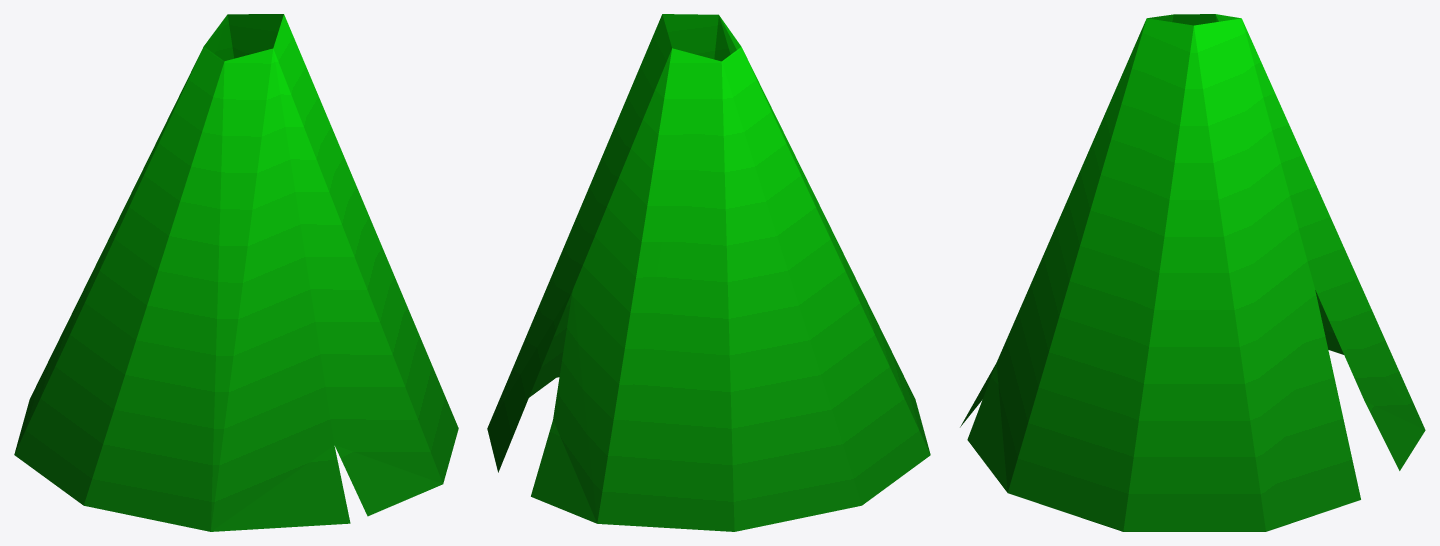
The model's file is Prefab_Foliage_Tree_Pine_Leaves_D.glb.
3 renders of one model, left to right at view 1: azimuth 30°, elevation 25°; view 2: azimuth 150°, elevation 25°; view 3: azimuth 270°, elevation 25°, orthographic. The views are drawn at different scales.
Parts seen in each view (by area): view 1: PineTree_B_Trunk.008; view 2: PineTree_B_Trunk.008; view 3: PineTree_B_Trunk.008.
Boxes of the visible parts, x1=… form: PineTree_B_Trunk.008: x1=14, y1=14, x2=458, y2=531; PineTree_B_Trunk.008: x1=487, y1=14, x2=930, y2=531; PineTree_B_Trunk.008: x1=960, y1=14, x2=1425, y2=531.
Bounding box in the file's own units: 4.21 × 4.54 × 4.4.
Materials: 1 (1 with a texture image).
